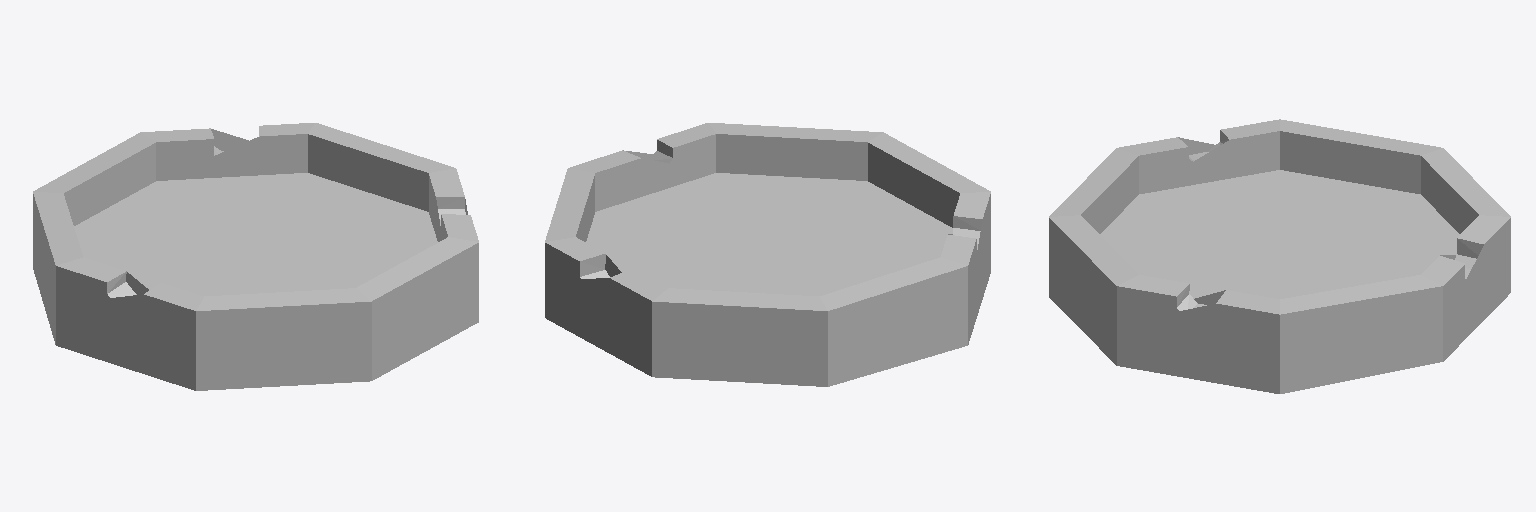
File: ash_tray.obj
3 renders of one model, left to right at view 1: azimuth 30°, elevation 25°; view 2: azimuth 150°, elevation 25°; view 3: azimuth 270°, elevation 25°, orthographic.
Visible parts, largest first — view 1: Cylinder; view 2: Cylinder; view 3: Cylinder.
Boxes of the visible parts, x1=… form: Cylinder: x1=33, y1=123, x2=478, y2=390; Cylinder: x1=545, y1=123, x2=990, y2=386; Cylinder: x1=1049, y1=119, x2=1510, y2=393.
Bounding box in the file's own units: 2 × 0.3896 × 2.